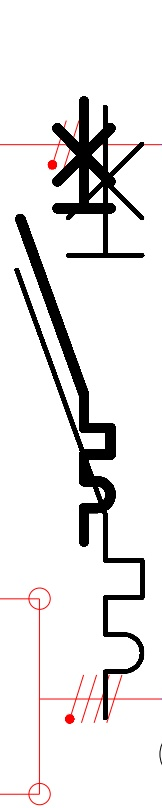interruptor_termomagnetico: (1, 91, 158, 734), (9, 90, 122, 553)
